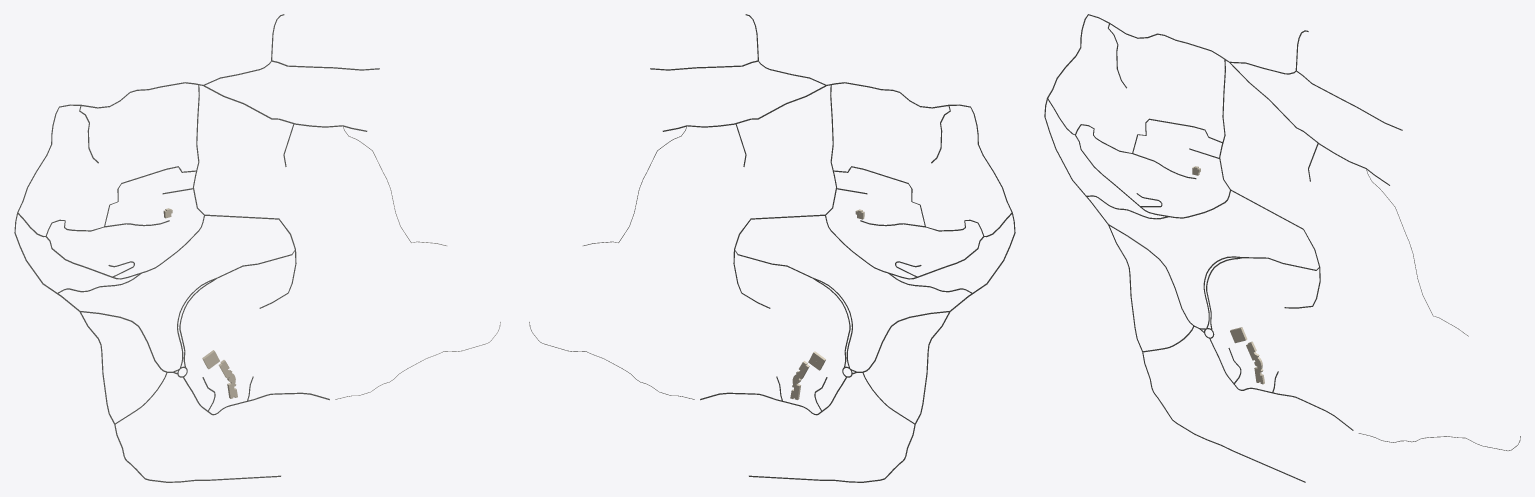
Rendered from historic-palestine-11_34_3534_3284.glb.
3 views of the same model, side by side, from view 1: azimuth 30°, elevation 25°; view 2: azimuth 150°, elevation 25°; view 3: azimuth 330°, elevation 25° (orthographic). The views are drawn at different scales.
Visible parts, largest first — view 1: Road; view 2: Road; view 3: Road.
Part boxes in pixels (x1,y1,x2,y2): Road: (14, 14, 284, 482); Road: (745, 14, 1015, 482); Road: (1044, 14, 1308, 482).
Size of the model in its own units: 1308 by 1188 by 8.7.
